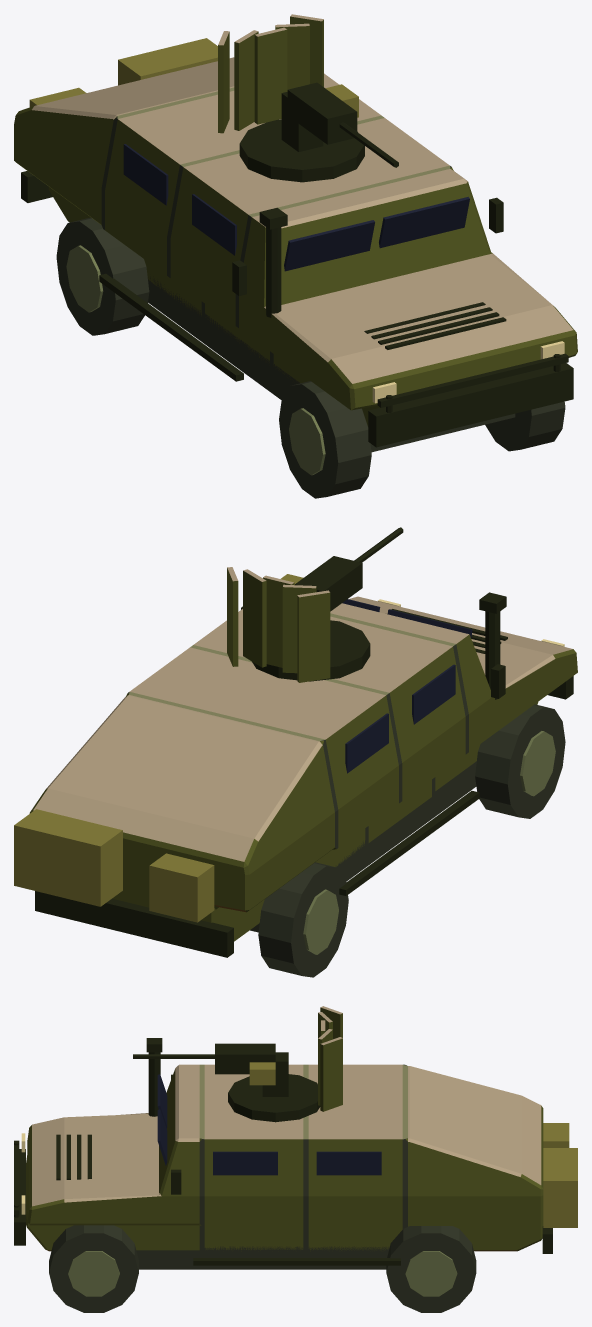
File: SM_V2_Vamtac_LOD0.fbx
3 renders of one model, top to bottom at view 1: azimuth 30°, elevation 25°; view 2: azimuth 150°, elevation 25°; view 3: azimuth 270°, elevation 25°, orthographic. The views are drawn at different scales.
Parts seen in each view (by area): view 1: SM_vamtac_v2_LOD0; view 2: SM_vamtac_v2_LOD0; view 3: SM_vamtac_v2_LOD0.
Part boxes in pixels (x1=…): SM_vamtac_v2_LOD0: x1=14, y1=14, x2=577, y2=498; SM_vamtac_v2_LOD0: x1=14, y1=527, x2=577, y2=977; SM_vamtac_v2_LOD0: x1=14, y1=1006, x2=577, y2=1312.
Size of the model in its own units: 2.68 by 3.13 by 6.52.
